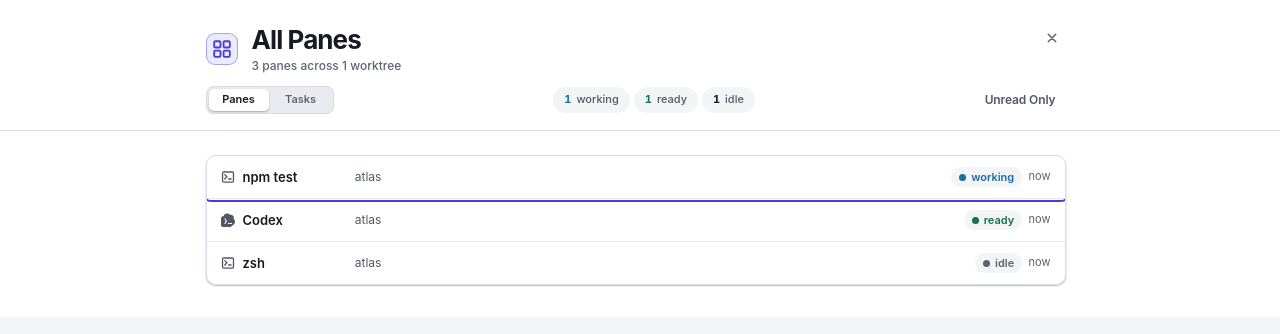
Scenario: the legend › shows one state’s panes when its count is pressed, and every pane when pressed again
The image size is (1280, 334).
Click the button "1 ready" at (666, 100), box [634,87,698,113]
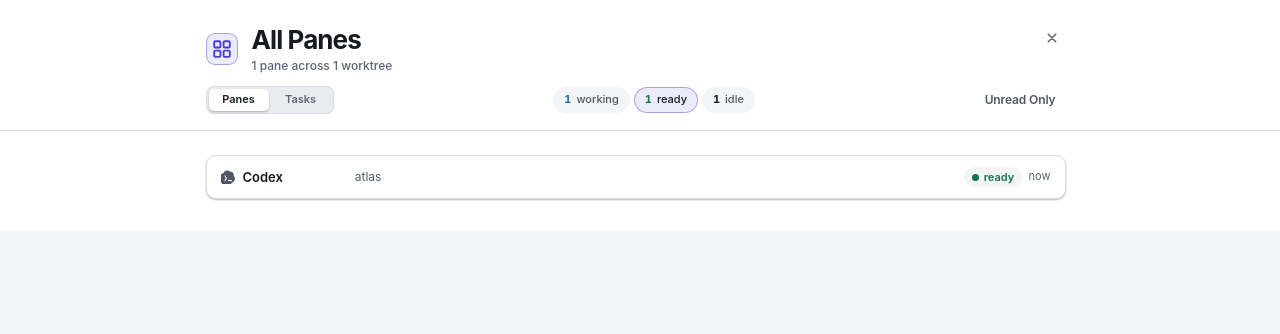
Now the button "1 ready" is pressed
Click the button "1 ready" at (666, 100), box [634,87,698,113]
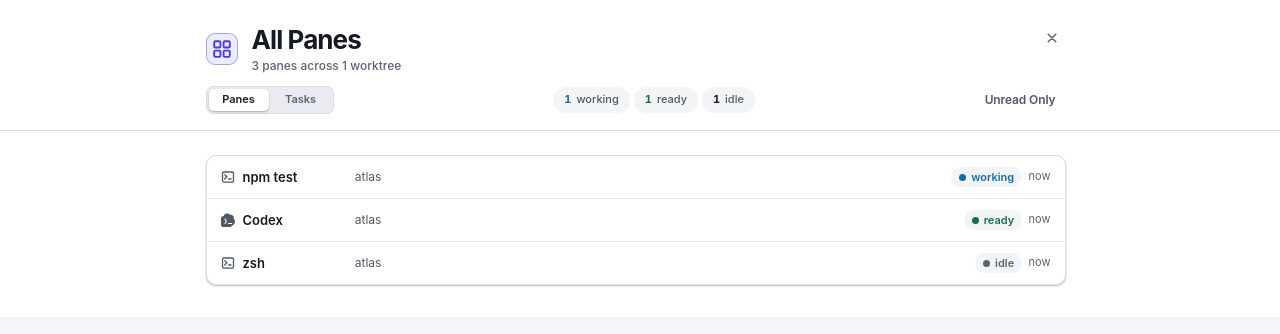
Now the number of buttons with class "board-row" is 3, box [206,156,1064,198]; [206,199,1064,241]; [206,242,1064,284]
